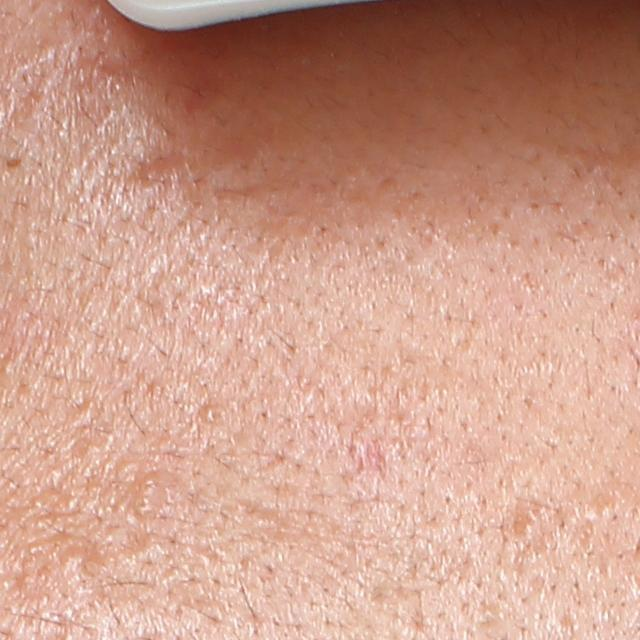comedo: (516, 514, 538, 539), (0, 152, 28, 171), (199, 405, 225, 425), (135, 495, 159, 516)
